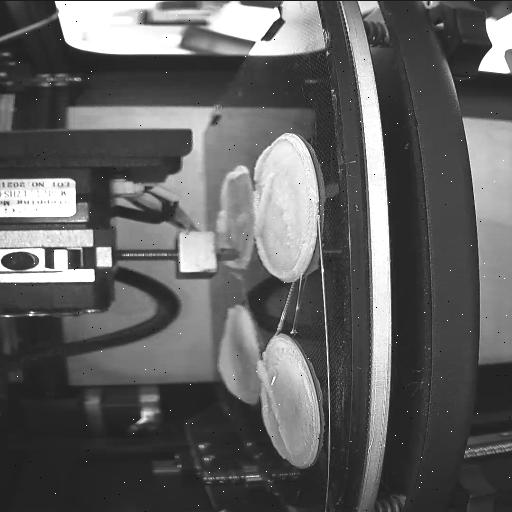over_extrusion: (254, 358, 294, 450), (214, 306, 244, 398), (254, 237, 308, 279), (252, 144, 276, 236), (217, 206, 231, 244)
